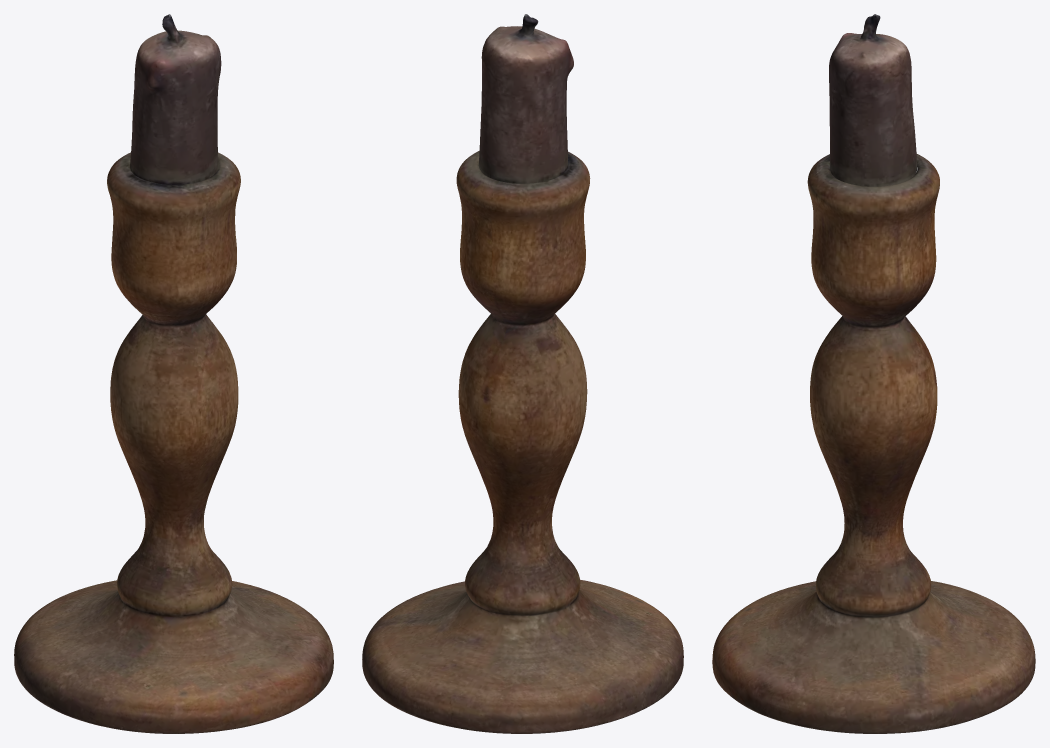
File: candlestick-wood.glb
3 views of the same model, side by side, from view 1: azimuth 30°, elevation 25°; view 2: azimuth 150°, elevation 25°; view 3: azimuth 270°, elevation 25° (orthographic).
Visible parts, largest first — view 1: wooden_candlestick; view 2: wooden_candlestick; view 3: wooden_candlestick.
Boxes of the visible parts, box(x1,y1,x2,y2) form: wooden_candlestick: box(14, 14, 333, 733); wooden_candlestick: box(362, 14, 683, 733); wooden_candlestick: box(712, 14, 1035, 733).
Size of the model in its own units: 0.0972 by 0.2197 by 0.0987.
1 material, 1 textured.
